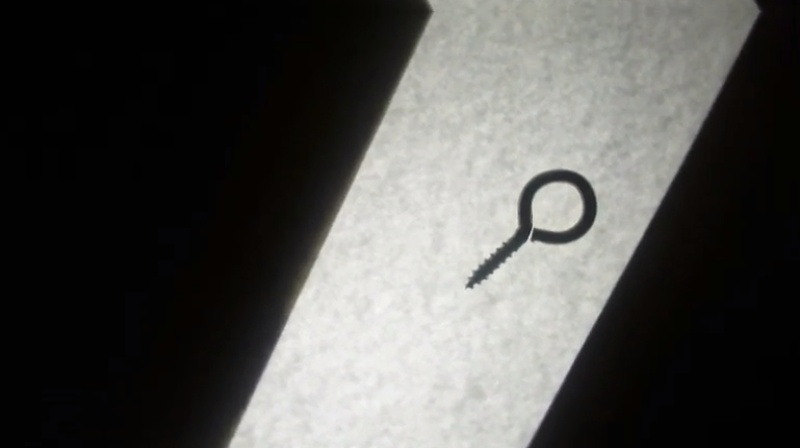O001: (462, 166, 600, 289)
